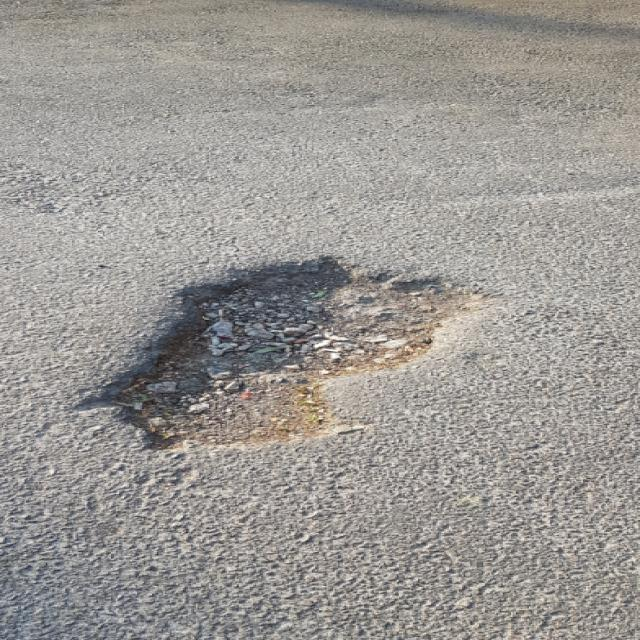pothole: (73, 254, 498, 454)
